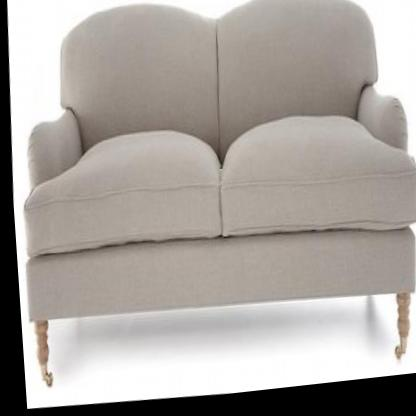Sofa: (4, 0, 416, 402)
